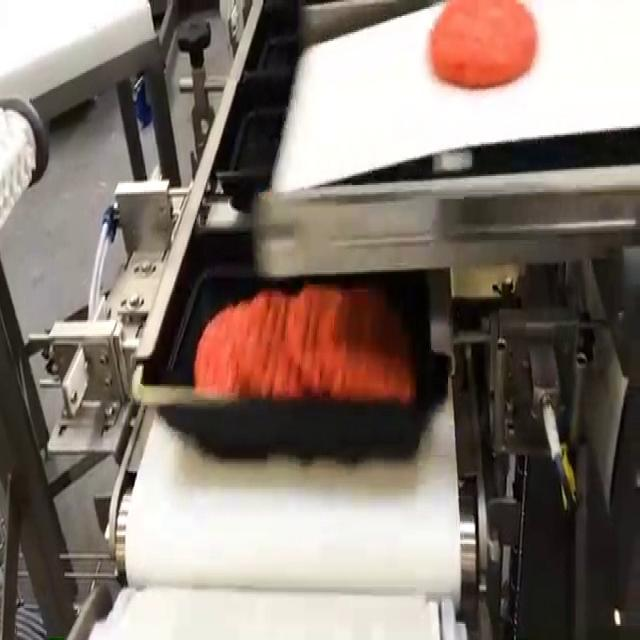4-hamburguer: (194, 284, 415, 404)
